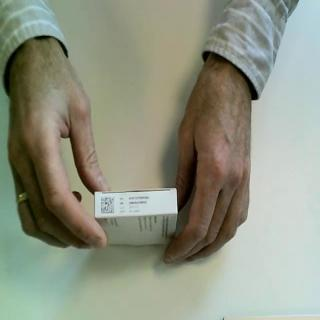dolcontin10mg: (94, 188, 180, 251)
